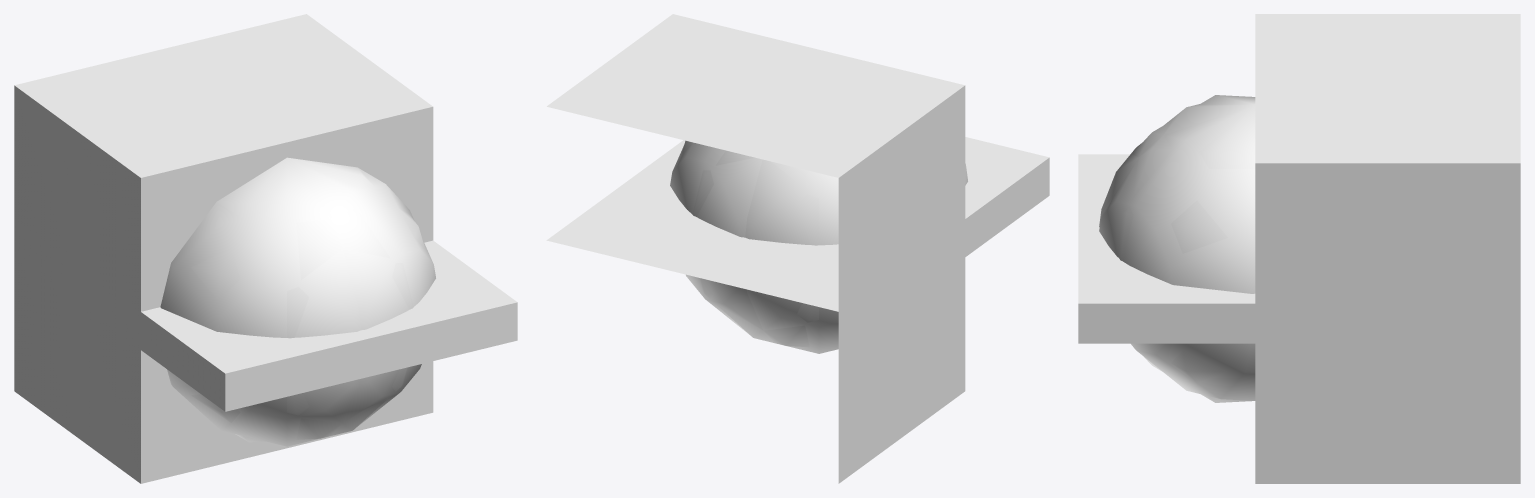
3 renders of one model, left to right at view 1: azimuth 30°, elevation 25°; view 2: azimuth 150°, elevation 25°; view 3: azimuth 270°, elevation 25°, orthographic. The views are drawn at different scales.
Parts seen in each view (by area): view 1: togglewalls.modelset-temp-MeshSets[switch_prp].Mesh[0], togglewalls.modelset-temp-MeshSets[up_prp].Mesh[0], togglewalls.modelset-temp-MeshSets[switch_ylw].Mesh[0], togglewalls.modelset-temp-MeshSets[down_prp].Mesh[0]; view 2: togglewalls.modelset-temp-MeshSets[switch_prp].Mesh[0], togglewalls.modelset-temp-MeshSets[up_prp].Mesh[0], togglewalls.modelset-temp-MeshSets[switch_ylw].Mesh[0], togglewalls.modelset-temp-MeshSets[down_prp].Mesh[0]; view 3: togglewalls.modelset-temp-MeshSets[switch_prp].Mesh[0], togglewalls.modelset-temp-MeshSets[up_prp].Mesh[0], togglewalls.modelset-temp-MeshSets[switch_ylw].Mesh[0], togglewalls.modelset-temp-MeshSets[down_prp].Mesh[0].
Part boxes in pixels (x1,y1,x2,y2): togglewalls.modelset-temp-MeshSets[switch_prp].Mesh[0]: (14, 14, 433, 483); togglewalls.modelset-temp-MeshSets[up_prp].Mesh[0]: (14, 220, 517, 411); togglewalls.modelset-temp-MeshSets[switch_ylw].Mesh[0]: (191, 158, 435, 442); togglewalls.modelset-temp-MeshSets[down_prp].Mesh[0]: (14, 219, 46, 270); togglewalls.modelset-temp-MeshSets[switch_prp].Mesh[0]: (547, 14, 967, 483); togglewalls.modelset-temp-MeshSets[up_prp].Mesh[0]: (548, 137, 1049, 349); togglewalls.modelset-temp-MeshSets[switch_ylw].Mesh[0]: (681, 140, 838, 353); togglewalls.modelset-temp-MeshSets[down_prp].Mesh[0]: (546, 216, 872, 349); togglewalls.modelset-temp-MeshSets[switch_prp].Mesh[0]: (1099, 14, 1520, 483); togglewalls.modelset-temp-MeshSets[up_prp].Mesh[0]: (1078, 154, 1519, 343); togglewalls.modelset-temp-MeshSets[switch_ylw].Mesh[0]: (1099, 95, 1255, 400); togglewalls.modelset-temp-MeshSets[down_prp].Mesh[0]: (1449, 303, 1520, 343).
Size of the model in its own units: 1 by 1 by 1.25.
1 material, 1 textured.
